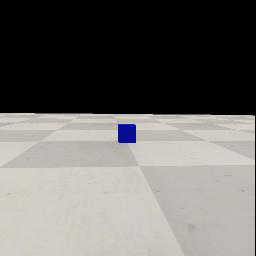box: (118, 124, 136, 143)
